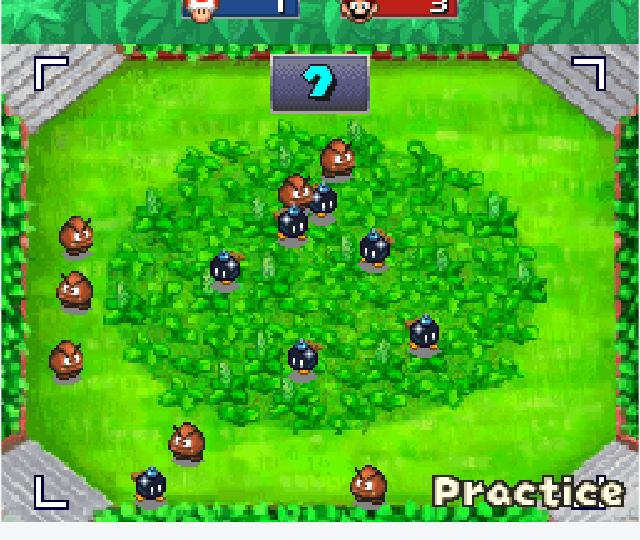bomb: (126, 465, 175, 506), (355, 225, 397, 271), (402, 308, 443, 354), (268, 203, 311, 242), (283, 338, 324, 378), (207, 248, 244, 287), (306, 179, 338, 220)
goomba: (345, 462, 395, 509), (164, 420, 210, 469), (45, 337, 88, 388), (314, 135, 362, 179), (57, 212, 99, 261), (52, 269, 97, 314), (276, 172, 315, 212)
